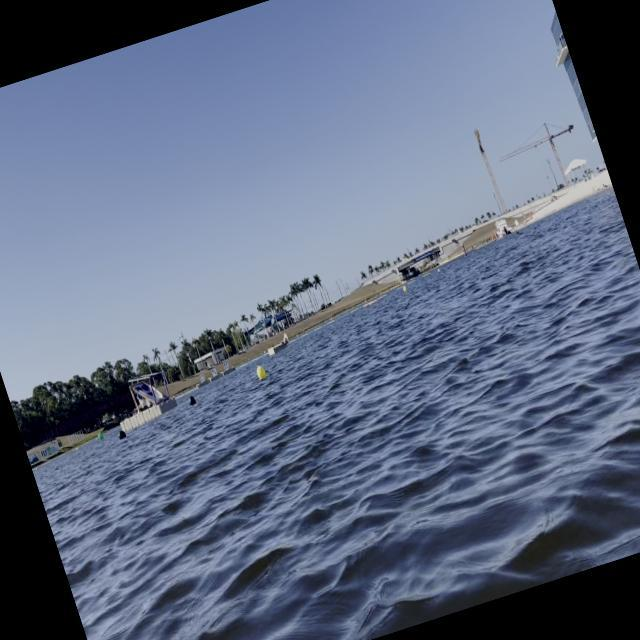buoy: (254, 362, 268, 382), (186, 392, 198, 410), (116, 428, 128, 442), (96, 430, 105, 441), (402, 284, 408, 292)
